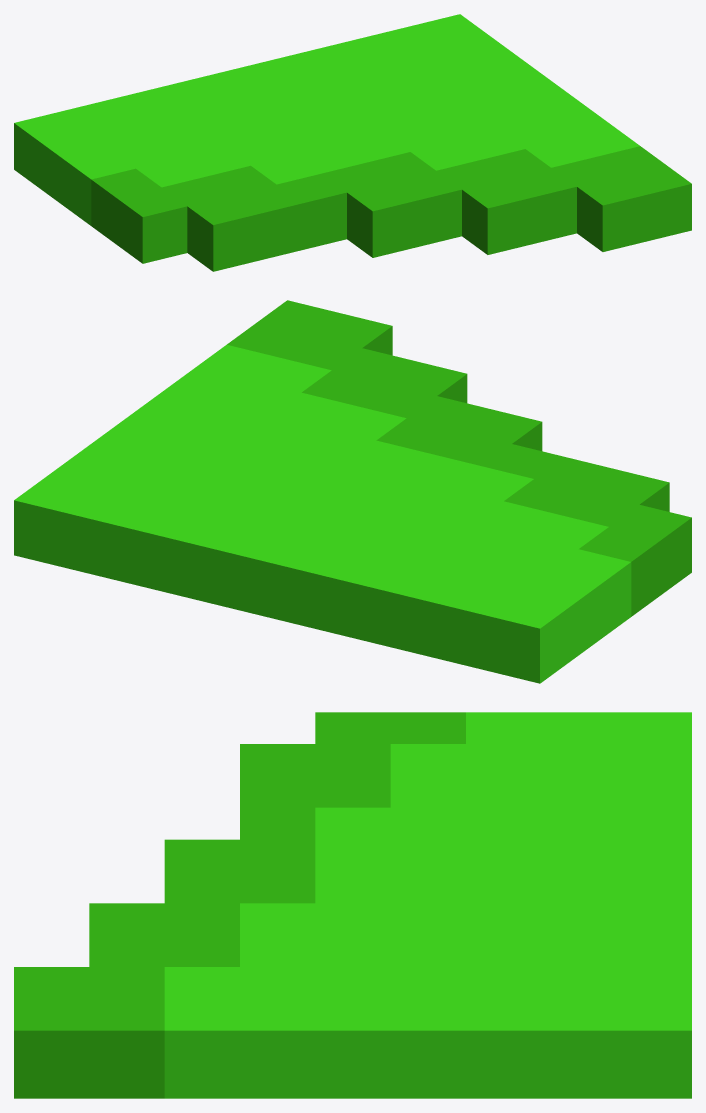
Rendered from grass_lined_diagonal_B_down.obj.
3 renders of one model, top to bottom at view 1: azimuth 30°, elevation 25°; view 2: azimuth 150°, elevation 25°; view 3: azimuth 270°, elevation 25°, orthographic. The views are drawn at different scales.
Bounding box in the file's own units: 1 × 0.1 × 0.9.
Materials: 1 (1 with a texture image).
